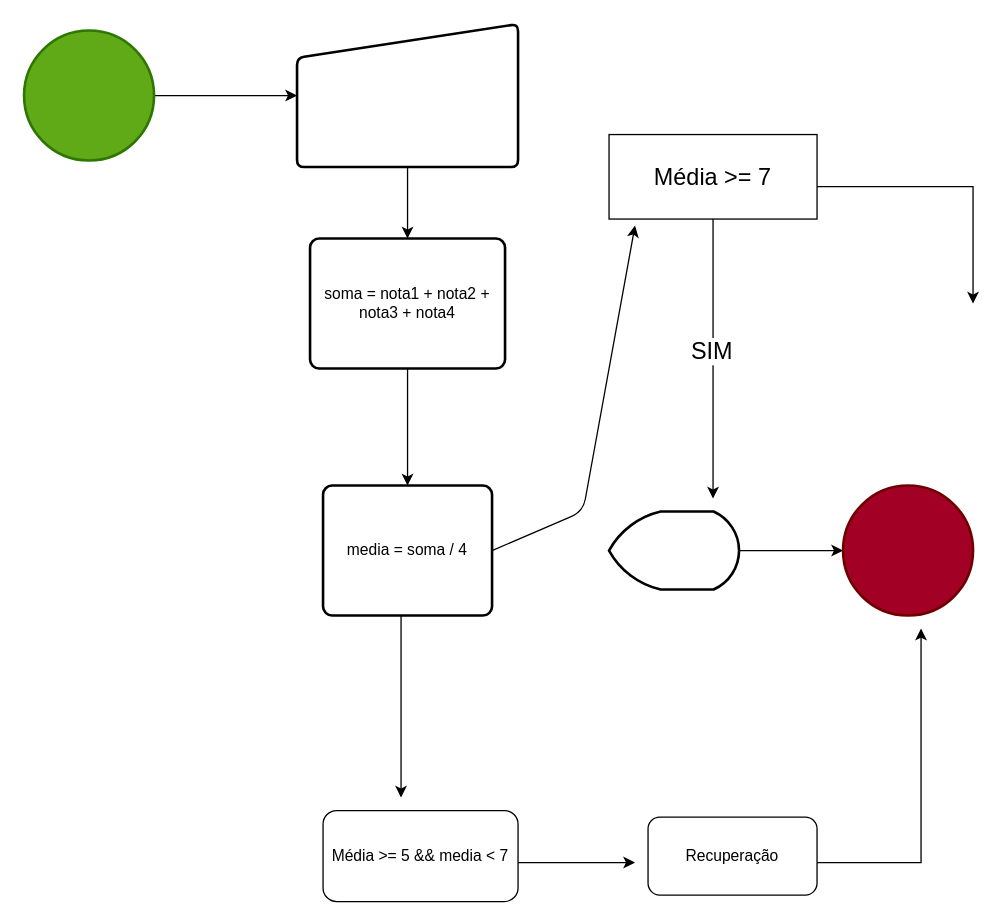
Image size: 1006x924. Some labels were removed from this diagram. The centre of each missing label's shape, as x and y in pixels:
"Aprovado" belongs at pixel 673 550.
"FIM" belongs at pixel 907 550.
"nota1 = X nota2 = X nota3 = X nota4 = X" belongs at pixel 407 95.
